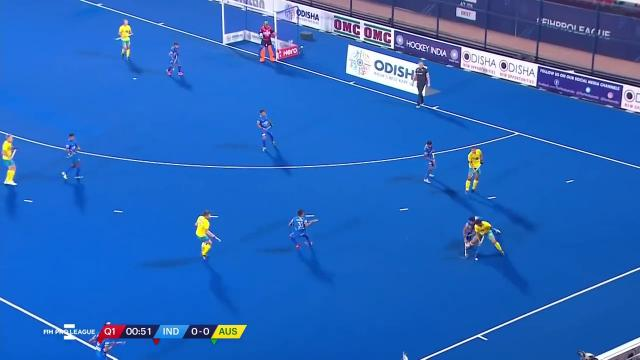ball: (474, 256, 481, 262)
